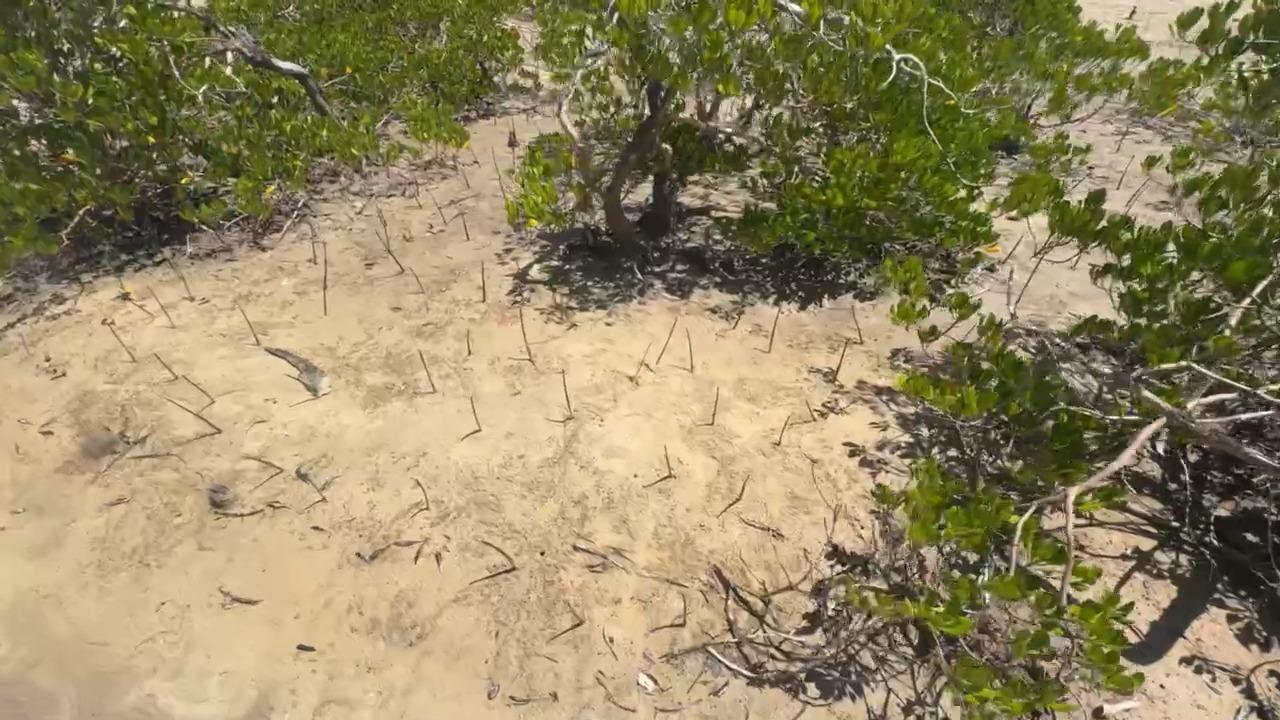Tree: (165, 396, 223, 434), (375, 230, 405, 272), (655, 316, 679, 365), (107, 323, 136, 362), (237, 304, 262, 346), (481, 540, 516, 569), (181, 374, 216, 402), (632, 342, 652, 384), (418, 348, 437, 392), (148, 287, 172, 321), (832, 338, 849, 383), (153, 352, 179, 379), (241, 454, 284, 470), (519, 307, 532, 359), (411, 476, 430, 511), (376, 204, 390, 251), (768, 308, 781, 353), (562, 369, 574, 417), (128, 299, 156, 317), (410, 266, 426, 294), (307, 477, 326, 500), (470, 395, 482, 431), (852, 304, 863, 343), (777, 416, 790, 446), (323, 241, 328, 315), (178, 270, 192, 296), (686, 328, 694, 373), (433, 199, 446, 225), (568, 603, 584, 623), (711, 386, 719, 425), (461, 209, 470, 241), (739, 474, 750, 500), (664, 443, 672, 477), (481, 260, 487, 302), (806, 399, 816, 421), (681, 593, 687, 627), (461, 167, 470, 189), (466, 328, 472, 356), (413, 194, 423, 209), (601, 625, 606, 640), (415, 179, 419, 197)
